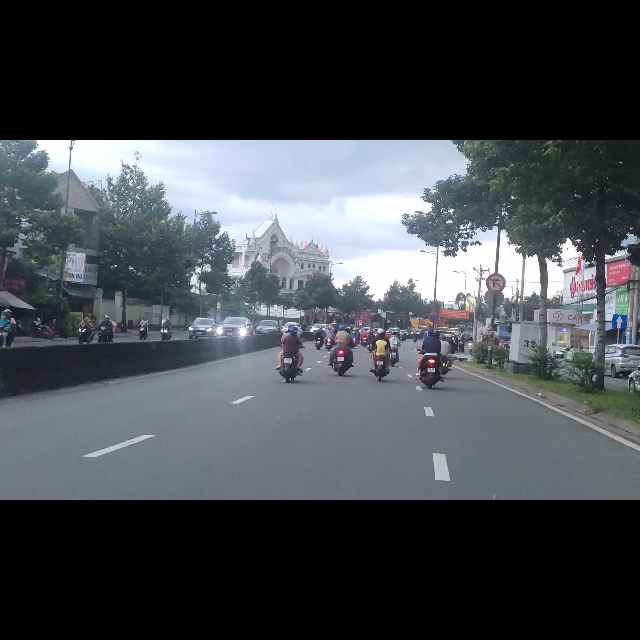bien_cam: (486, 236, 506, 270), (429, 306, 439, 325)
